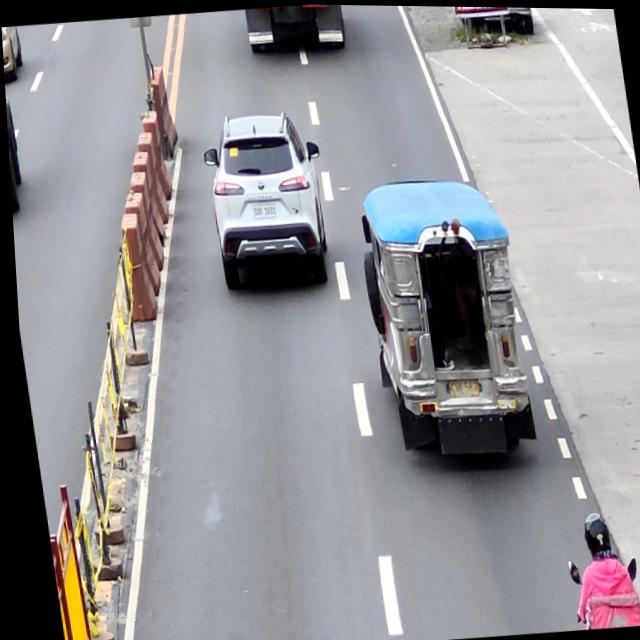Car: (196, 109, 336, 291)
Jeep: (350, 173, 534, 466)
License-Plate: (443, 375, 475, 397), (248, 200, 275, 219)
